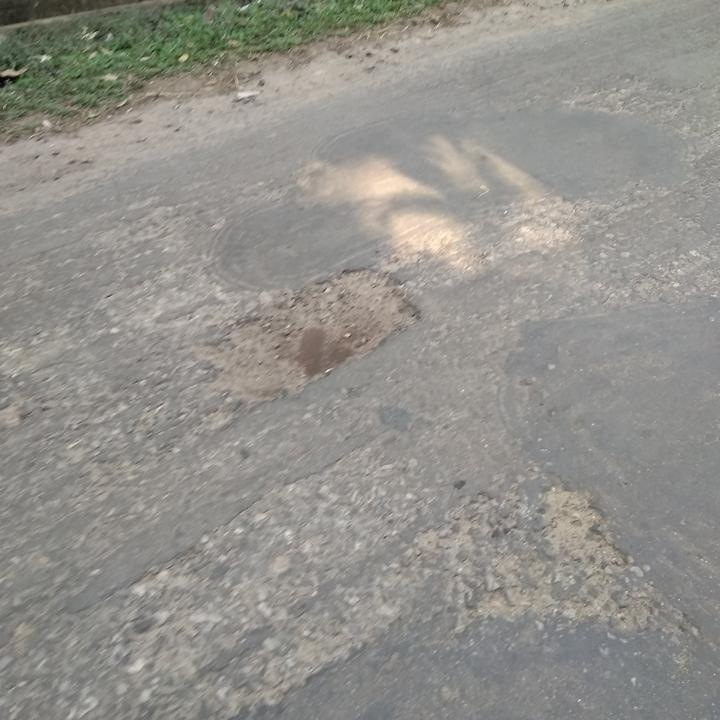pothole: (190, 263, 426, 410), (539, 477, 631, 573)
